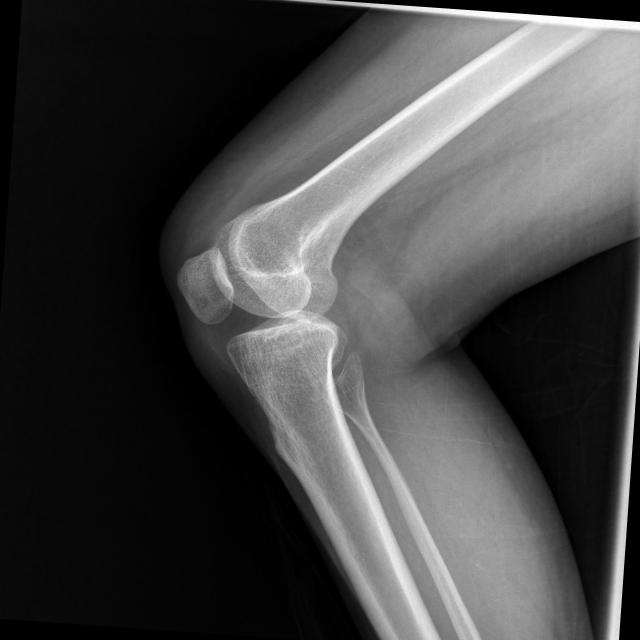Knee: (169, 214, 359, 383)
